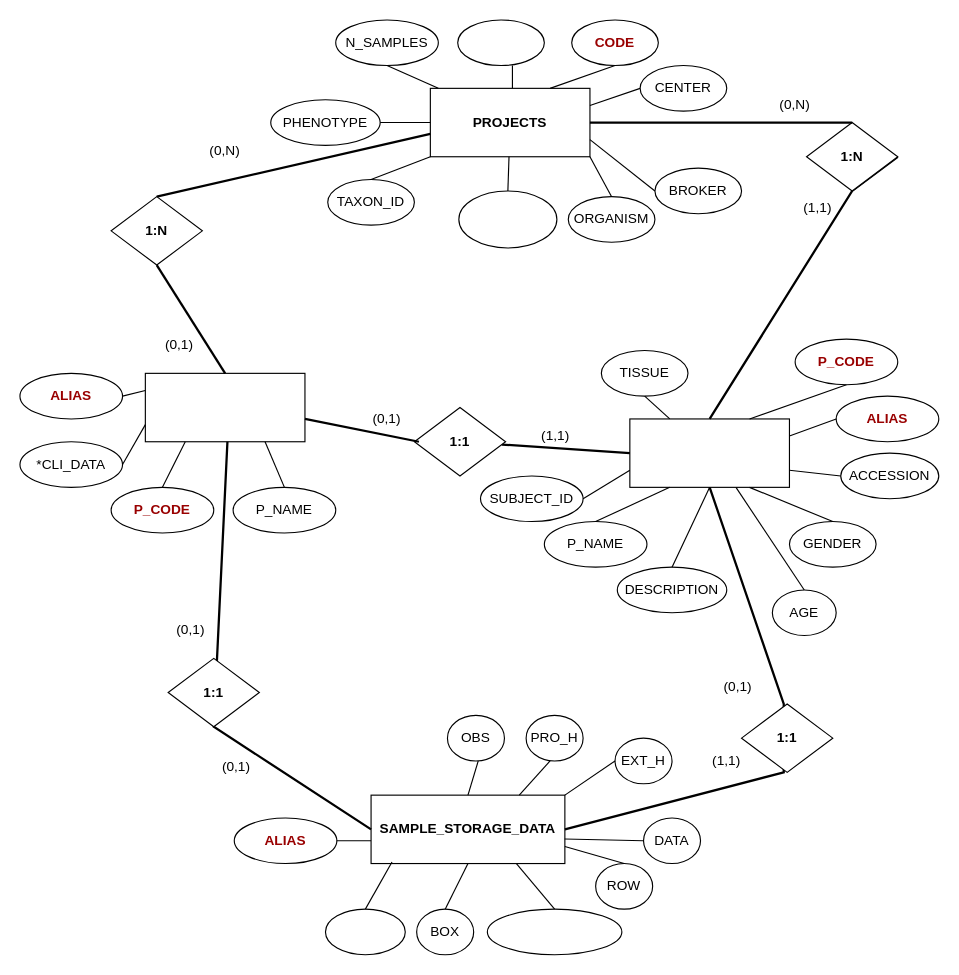
Image size: 959x975. Some labels were removed from this diagram. The shapes that lost their labels are listed below. From the top down, each one's box as (x1, y1, x2, y2) in pixels, then its label:
(457, 19, 544, 66): NAME
(458, 190, 557, 248): SCIENTIFIC _NAME
(144, 372, 305, 442): CLINICAL_DATA
(629, 418, 789, 487): METADATA
(324, 908, 405, 955): N_TUBE
(486, 908, 622, 955): SAMPLE_STATUS
